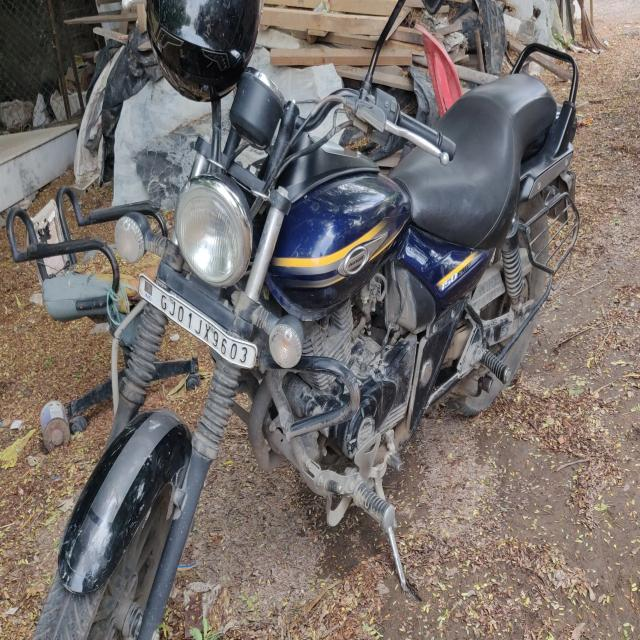Motor-Cycle: (78, 68, 580, 612)
Plate: (139, 273, 256, 370)
